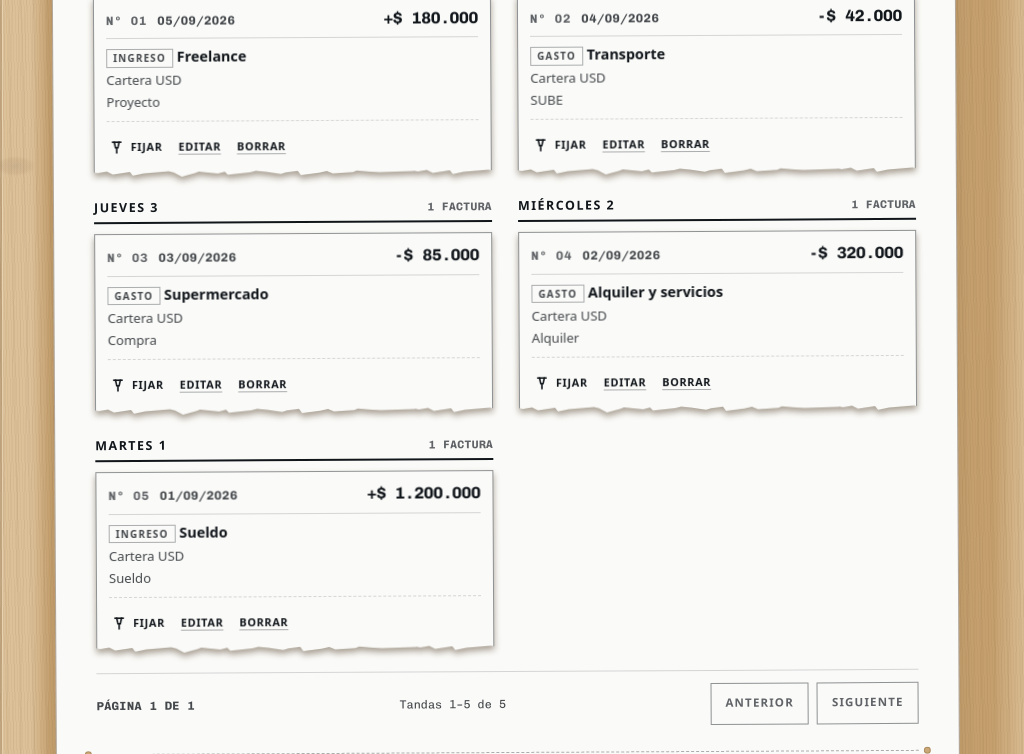
App mutations › resets the form when an active edit is cancelled
(page scrolled)
Click the button with aria-label "Editar movimiento: Supermercado": (201,385) [178,368,224,402]
(page scrolled)
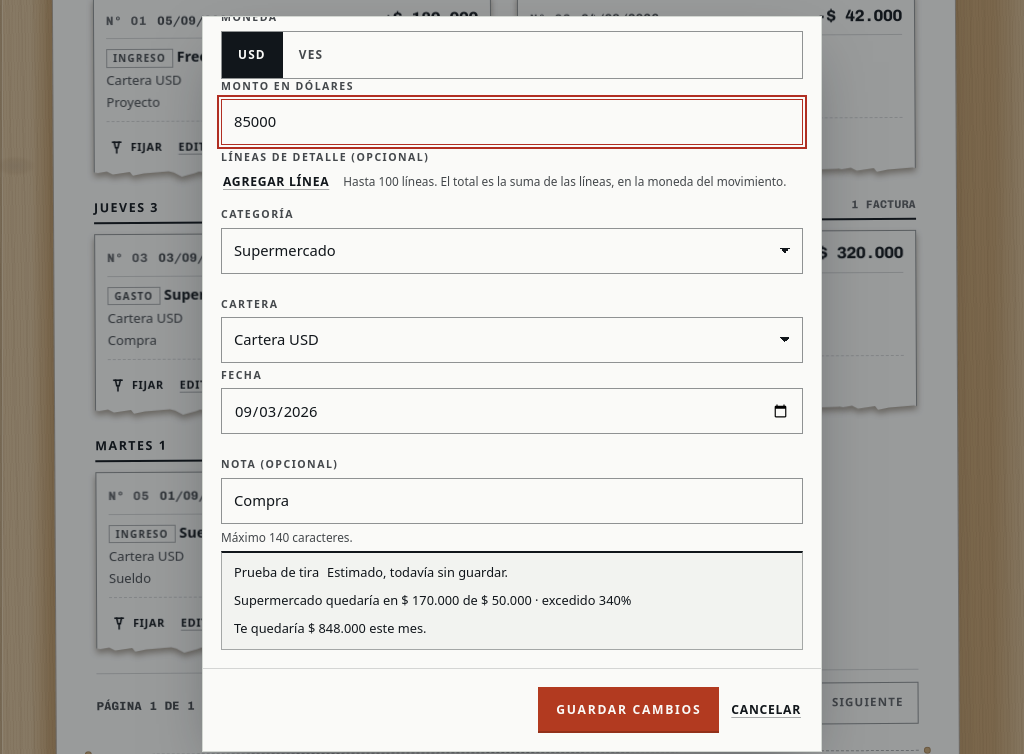
Check: the field labelled "Monto en dólares" holds "85000", box [221,99,803,145]
Click the button "Cancelar": (766,710) [729,693,803,727]
(page scrolled)
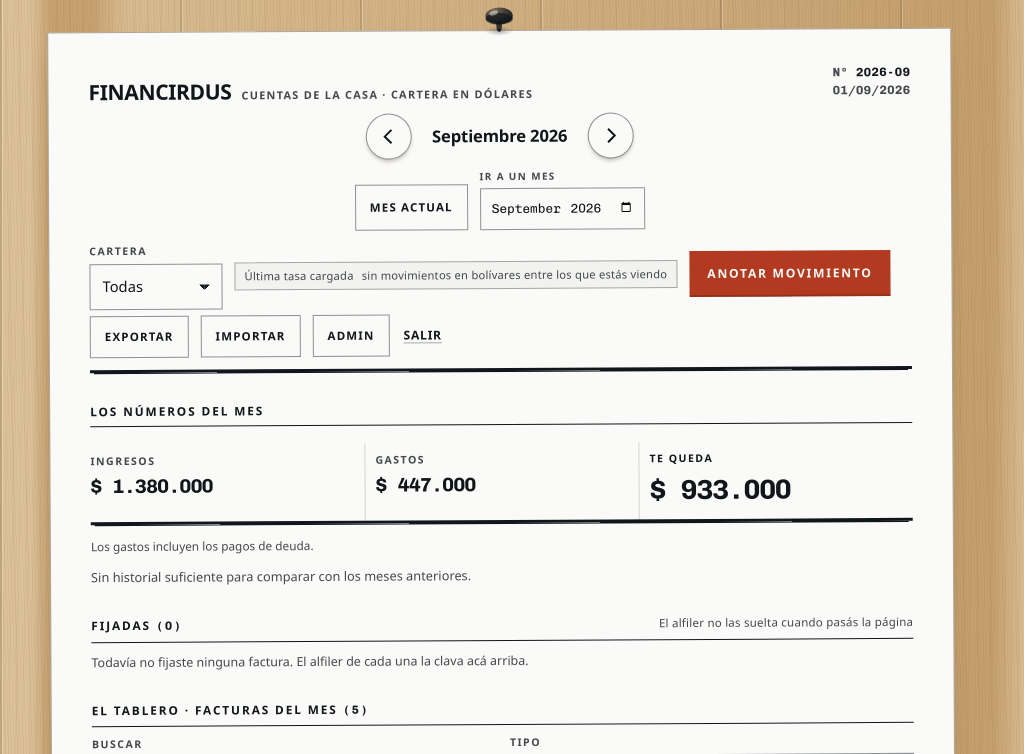
Check: the dialog is gone
Note: Reopening for a new movement starts from a clean slate.
Click the button "Anotar movimiento": (790,274) [689,250,891,297]
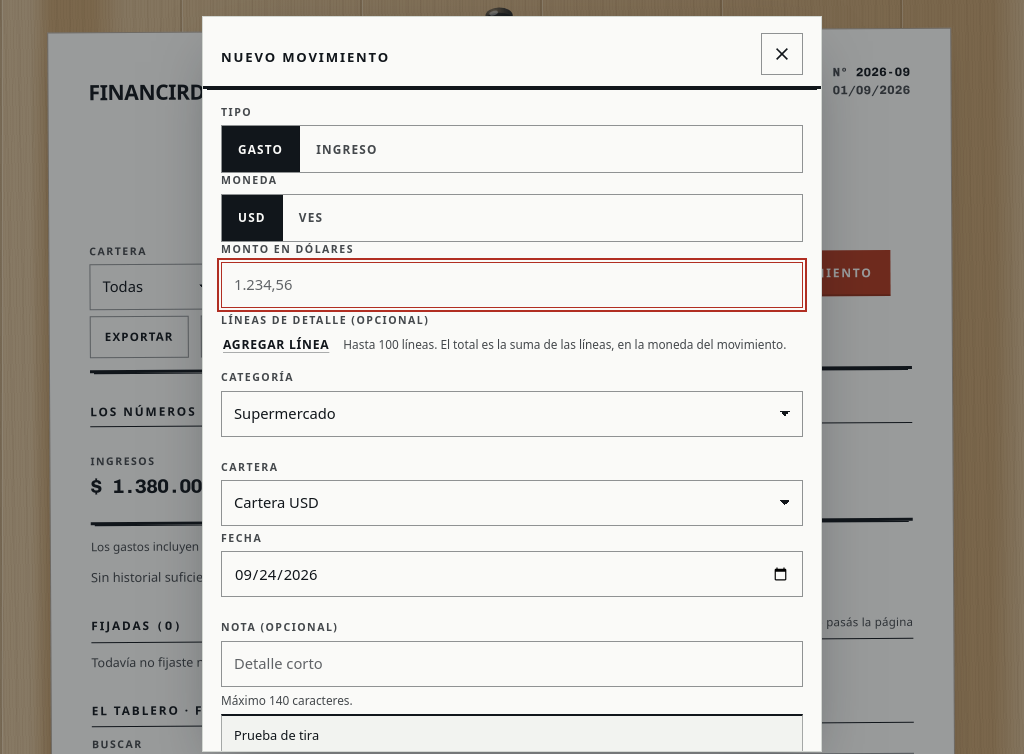
Check: the field labelled "Monto en dólares" is empty, box [221,262,803,308]
Check: the heading "Nuevo movimiento" is shown, box [221,48,390,67]
